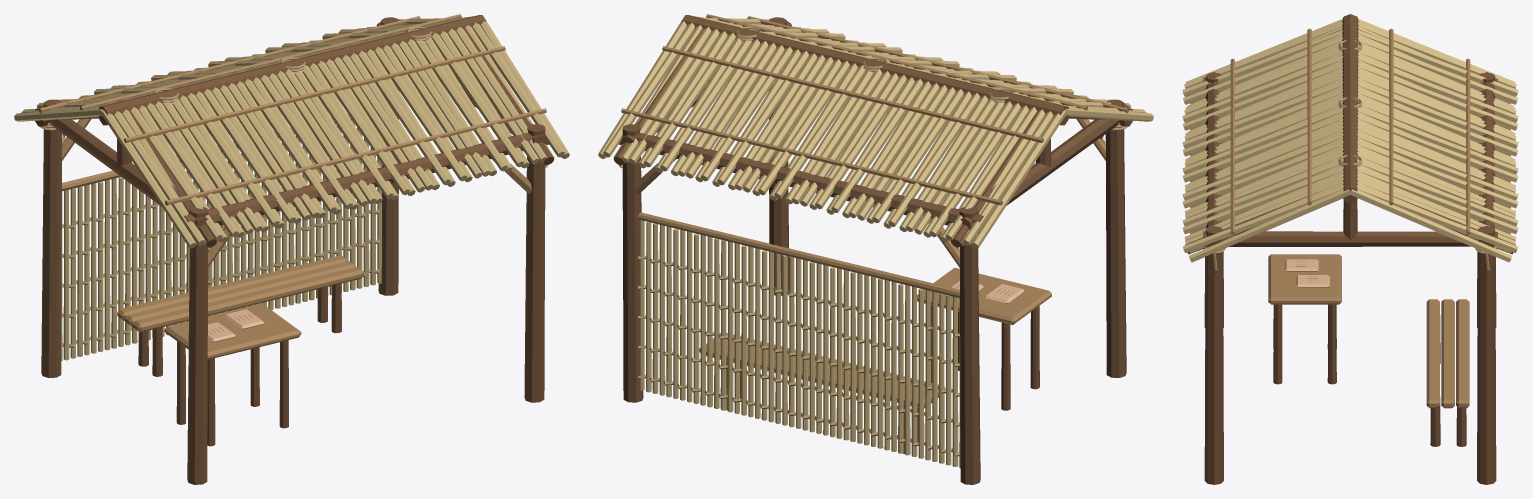
The picture shows the model from 3 angles, left to right: view 1: azimuth 30°, elevation 25°; view 2: azimuth 150°, elevation 25°; view 3: azimuth 270°, elevation 25°; orthographic projection. The views are drawn at different scales.
Parts seen in each view (by area): view 1: BA-0070 batched; view 2: BA-0070 batched; view 3: BA-0070 batched.
Boxes of the visible parts, bbox=[...] form: BA-0070 batched: bbox=[14, 14, 569, 484]; BA-0070 batched: bbox=[598, 14, 1153, 484]; BA-0070 batched: bbox=[1182, 14, 1518, 484].
Size of the model in its own units: 3.63 by 2.96 by 2.97.
